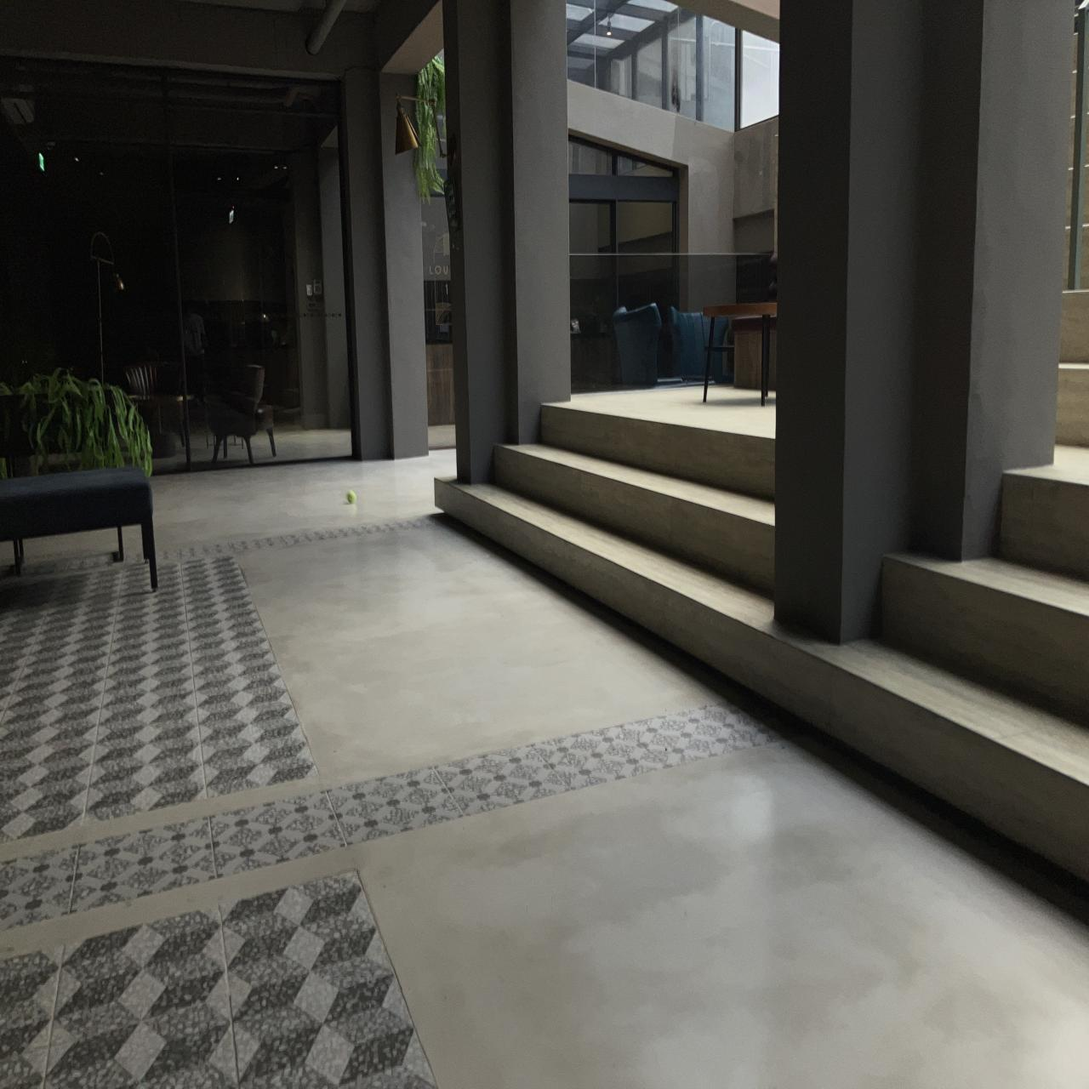tennisball: (347, 491, 356, 504)
